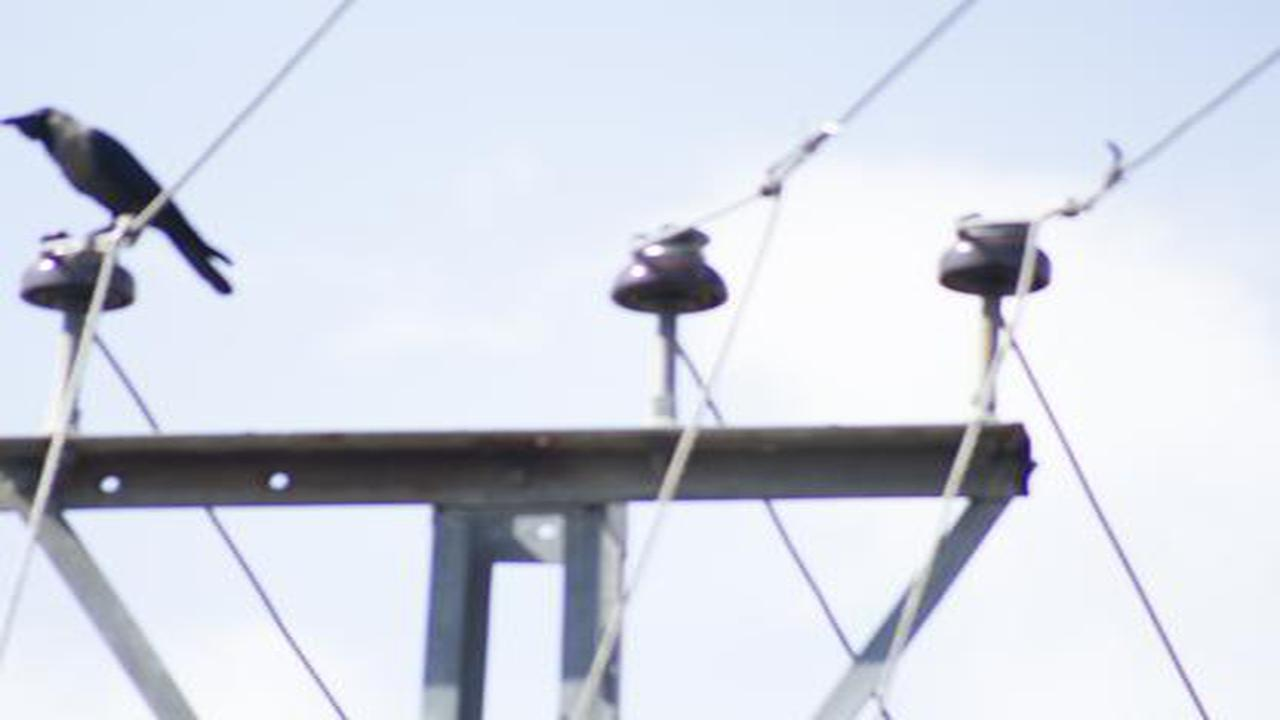insulator_pin: (606, 217, 733, 319), (14, 228, 142, 317), (934, 206, 1055, 298)
